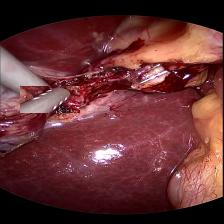Irrigator: (20, 85, 80, 112)
